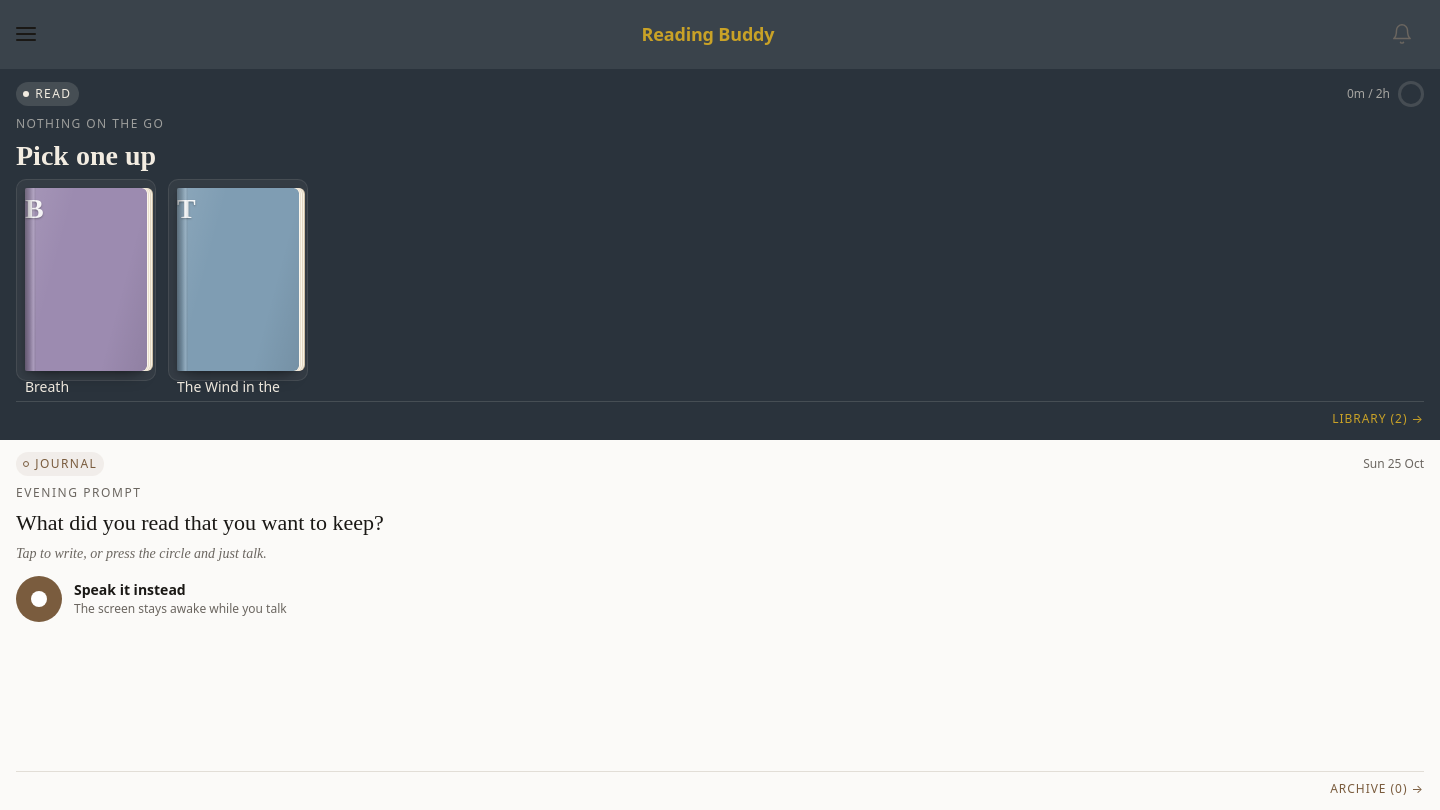
the question on the journal half › opens the writer with the question still on screen
Click the button "What did you read that you want to keep?".
click(200, 522)  # box [16,510,1424,535]
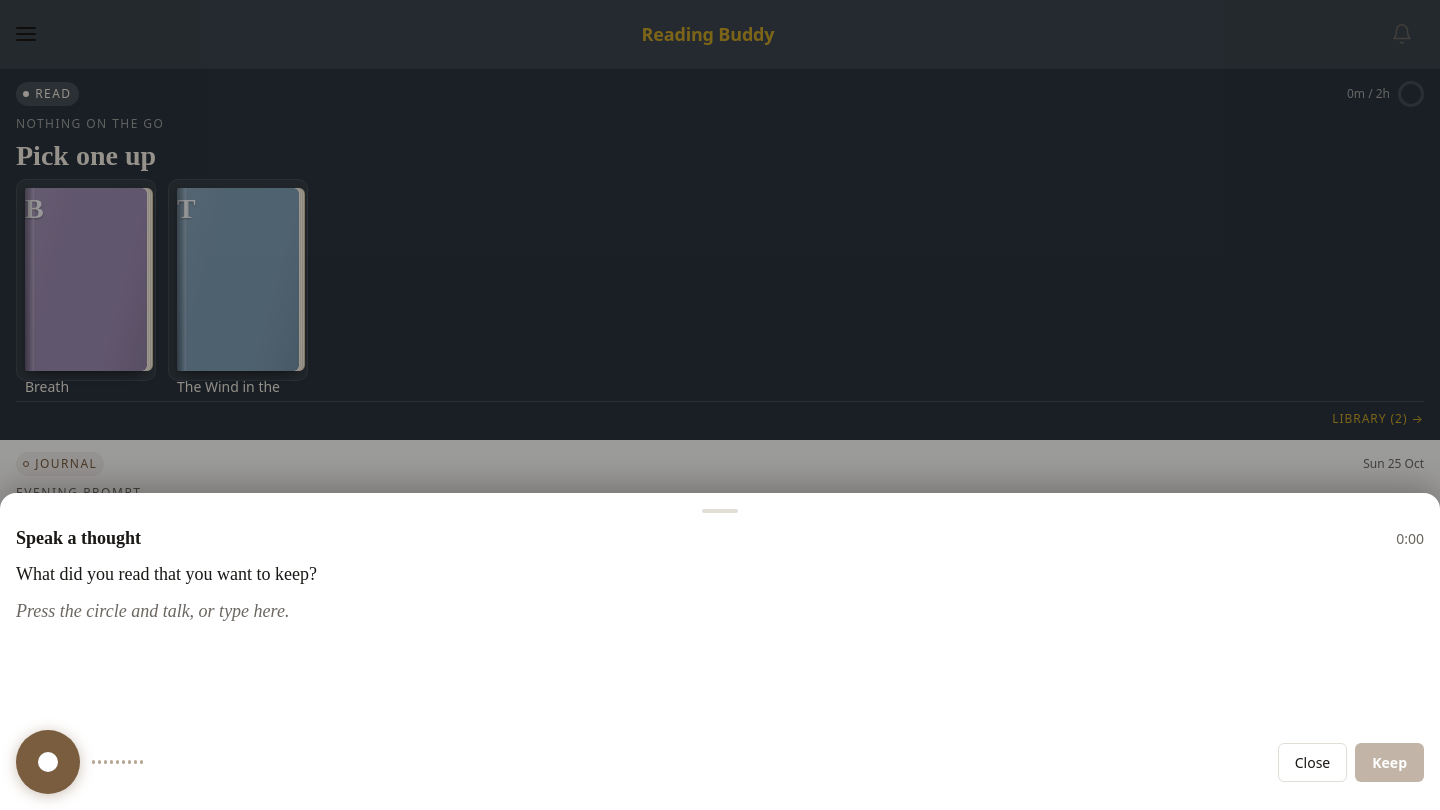
Result: the text "What did you read that you want to keep?" is shown at [16,564,317,584]
